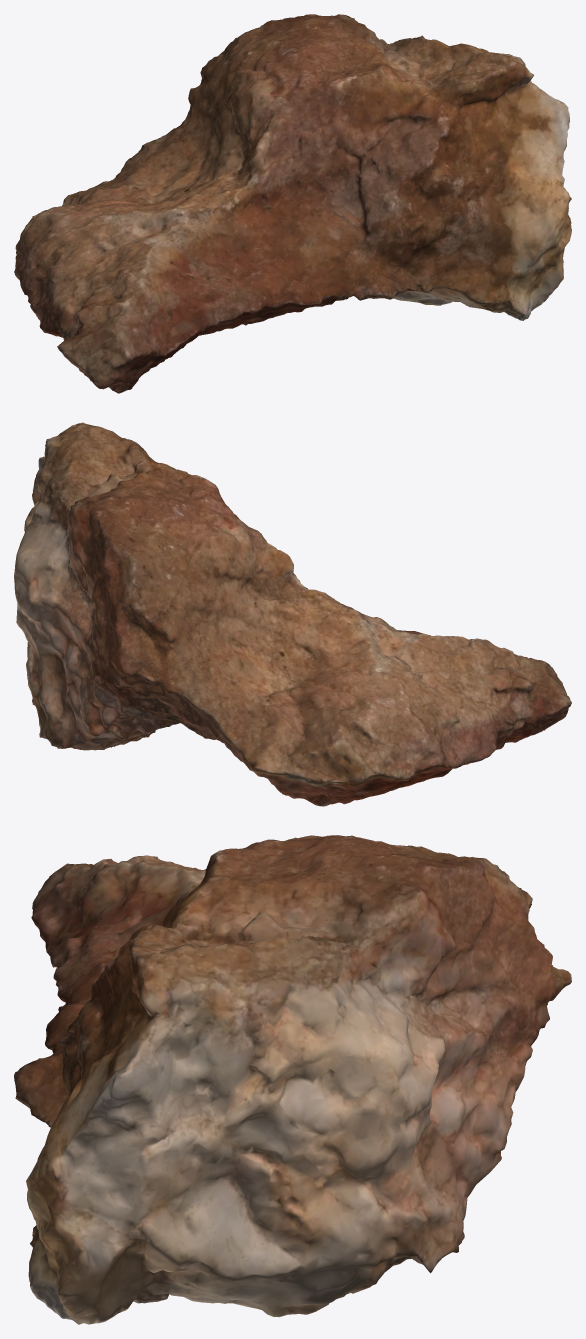
File: stone_01.glb
3 views of the same model, one above another, from view 1: azimuth 30°, elevation 25°; view 2: azimuth 150°, elevation 25°; view 3: azimuth 270°, elevation 25° (orthographic). The views are drawn at different scales.
Visible parts, largest first — view 1: stone_01; view 2: stone_01; view 3: stone_01.
Part boxes in pixels (x1=…): stone_01: x1=14, y1=14, x2=571, y2=393; stone_01: x1=14, y1=422, x2=571, y2=806; stone_01: x1=14, y1=835, x2=571, y2=1324.
Bounding box in the file's own units: 0.1469 × 0.0718 × 0.0891.
Materials: 1 (1 with a texture image).
